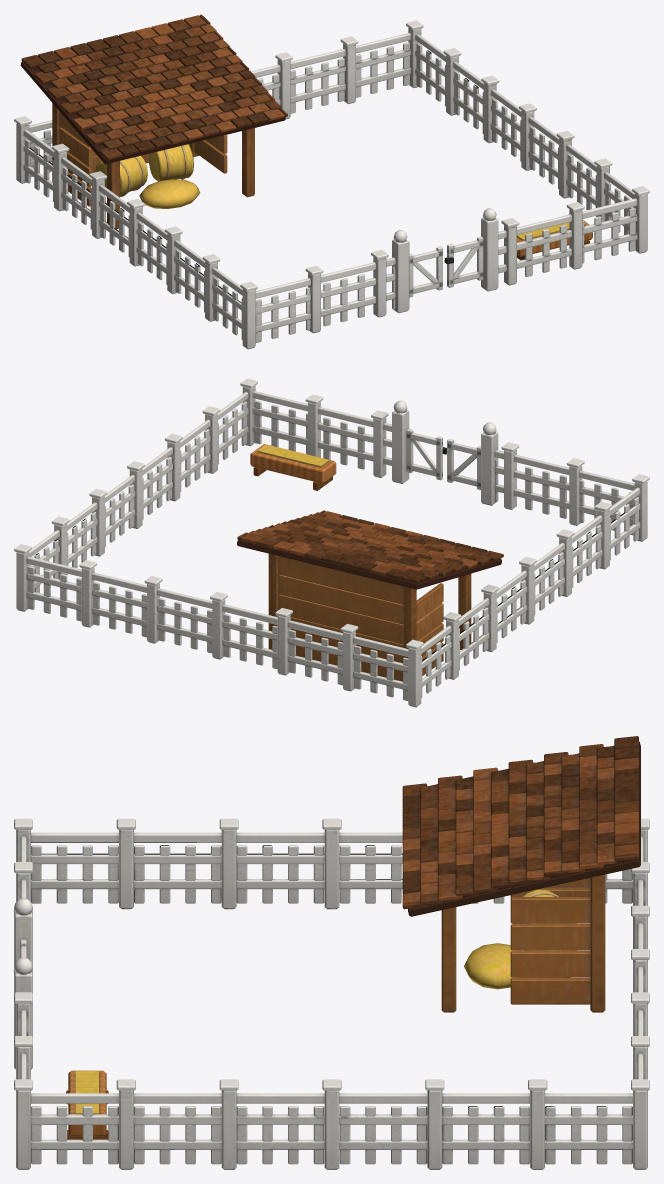
Rendered from jacob_fold.glb.
3 renders of one model, top to bottom at view 1: azimuth 30°, elevation 25°; view 2: azimuth 150°, elevation 25°; view 3: azimuth 270°, elevation 25°, orthographic. The views are drawn at different scales.
Parts seen in each view (by area): view 1: jacob_fold, gate1, gate0; view 2: jacob_fold, gate1, gate0; view 3: jacob_fold.
Boxes of the visible parts, x1=… form: jacob_fold: x1=14, y1=14, x2=649, y2=349; gate1: x1=444, y1=236, x2=483, y2=287; gate0: x1=409, y1=246, x2=442, y2=297; jacob_fold: x1=14, y1=378, x2=649, y2=707; gate1: x1=406, y1=429, x2=446, y2=480; gate0: x1=447, y1=439, x2=480, y2=489; jacob_fold: x1=14, y1=736, x2=649, y2=1169.
Bounding box in the file's own units: 2.99 × 0.9346 × 2.99.
Materials: 1 (1 with a texture image).
